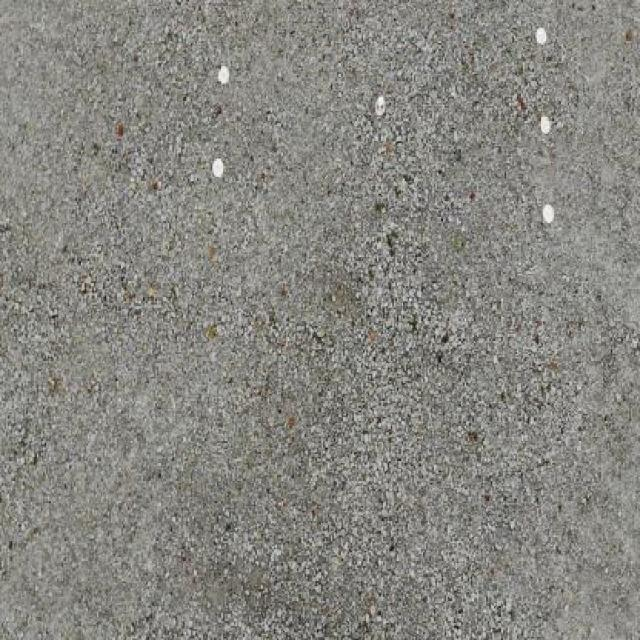Garbage: (374, 92, 387, 117)
